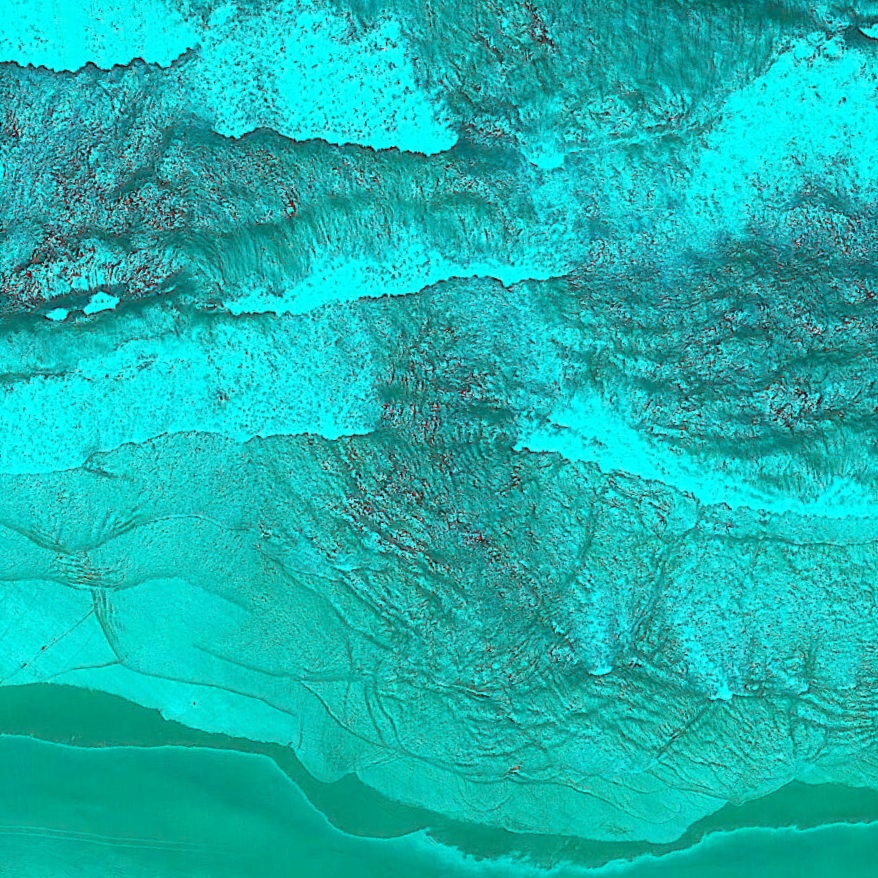rip_current: (303, 177, 629, 604)
